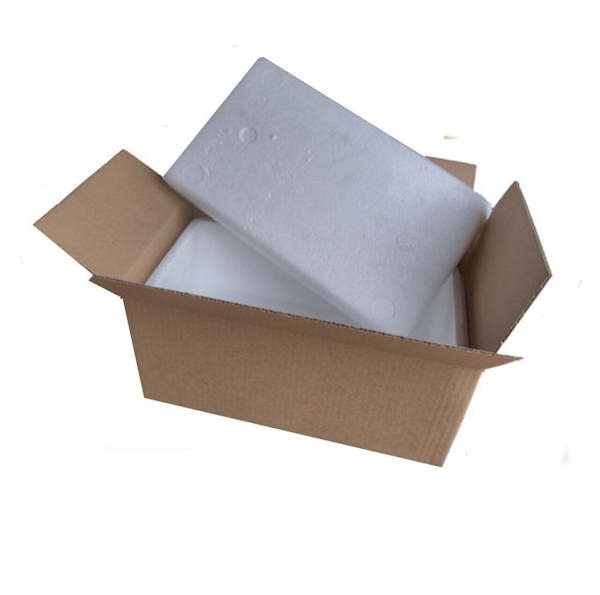Boxes: (147, 59, 490, 346)
